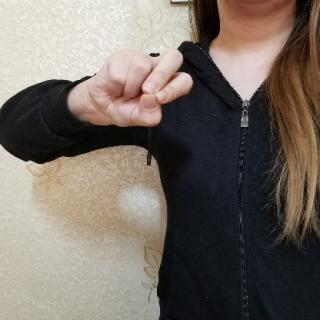QAAF: (86, 38, 200, 132)
